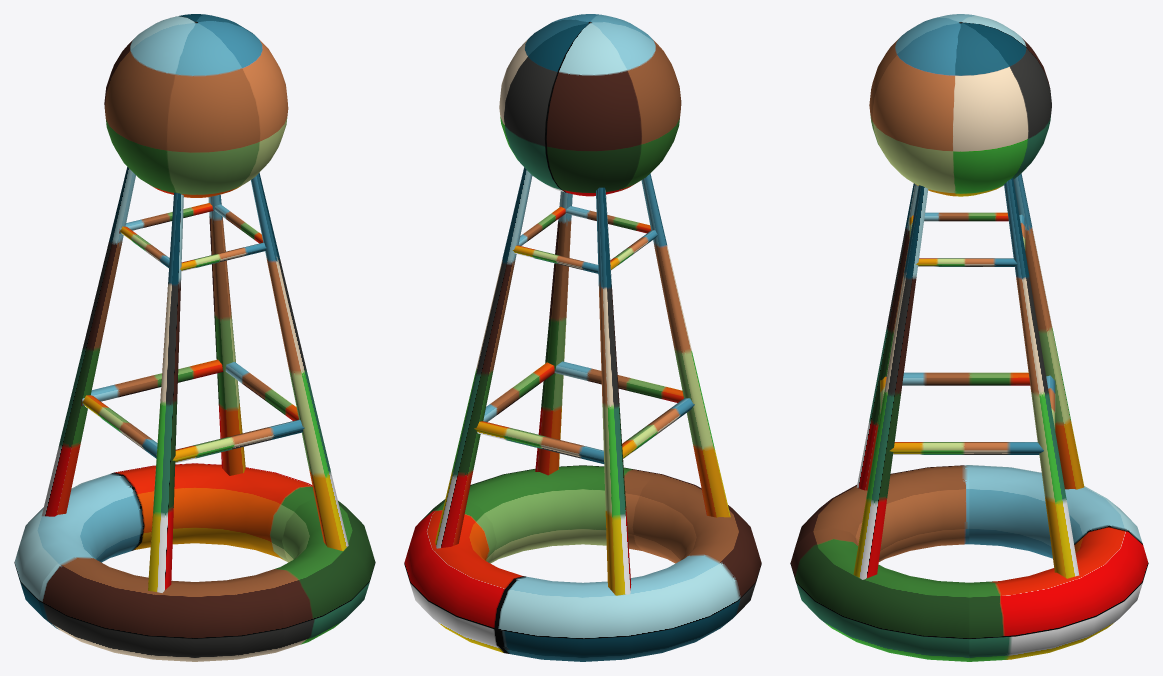
File: Buoy01.fbx
The picture shows the model from 3 angles, left to right: view 1: azimuth 30°, elevation 25°; view 2: azimuth 150°, elevation 25°; view 3: azimuth 270°, elevation 25°; orthographic projection.
Visible parts, largest first — view 1: Torus001, Sphere001, Color A, Cylinder003, Cylinder002, Cylinder004, Cylinder001, Cylinder008, Cylinder006, Cylinder007, Cylinder005, Cylinder012 (+3 smaller); view 2: Color A, Sphere001, Torus001, Cylinder004, Cylinder001, Cylinder003, Cylinder002, Cylinder006, Cylinder008, Cylinder007, Cylinder005, Cylinder010 (+2 smaller); view 3: Sphere001, Torus001, Color A, Cylinder001, Cylinder002, Cylinder004, Cylinder003, Cylinder005, Cylinder007, Cylinder009, Cylinder011.
Part boxes in pixels (x1,y1,x2,y2): Torus001: (38, 463, 314, 661); Sphere001: (104, 14, 288, 197); Color A: (14, 472, 375, 652); Cylinder003: (148, 192, 183, 592); Cylinder002: (251, 172, 348, 550); Cylinder004: (41, 167, 135, 516); Cylinder001: (208, 194, 245, 475); Cylinder008: (172, 419, 304, 463); Cylinder006: (81, 359, 223, 406); Cylinder007: (82, 395, 157, 458); Cylinder005: (225, 362, 298, 420); Cylinder012: (180, 242, 266, 271); Color A: (467, 465, 737, 661); Sphere001: (499, 14, 681, 196); Torus001: (404, 474, 761, 652); Cylinder004: (596, 187, 631, 595); Cylinder001: (435, 167, 532, 548); Cylinder003: (641, 173, 730, 517); Cylinder002: (535, 191, 572, 475); Cylinder006: (474, 421, 604, 463); Cylinder008: (554, 361, 683, 402); Cylinder007: (622, 398, 694, 458); Cylinder005: (483, 362, 554, 422); Cylinder010: (512, 245, 598, 273); Sphere001: (869, 14, 1051, 196); Torus001: (796, 465, 1148, 661); Color A: (790, 465, 1142, 661); Cylinder001: (1004, 178, 1079, 578); Cylinder002: (853, 185, 928, 579); Cylinder004: (1013, 173, 1084, 489); Cylinder003: (856, 183, 918, 490); Cylinder005: (890, 442, 1043, 454); Cylinder007: (902, 372, 1030, 385); Cylinder009: (916, 258, 1017, 266); Cylinder011: (924, 212, 1008, 221).
Bounding box in the file's own units: 65.62 × 116 × 65.62.
Materials: 3 (3 with a texture image).
